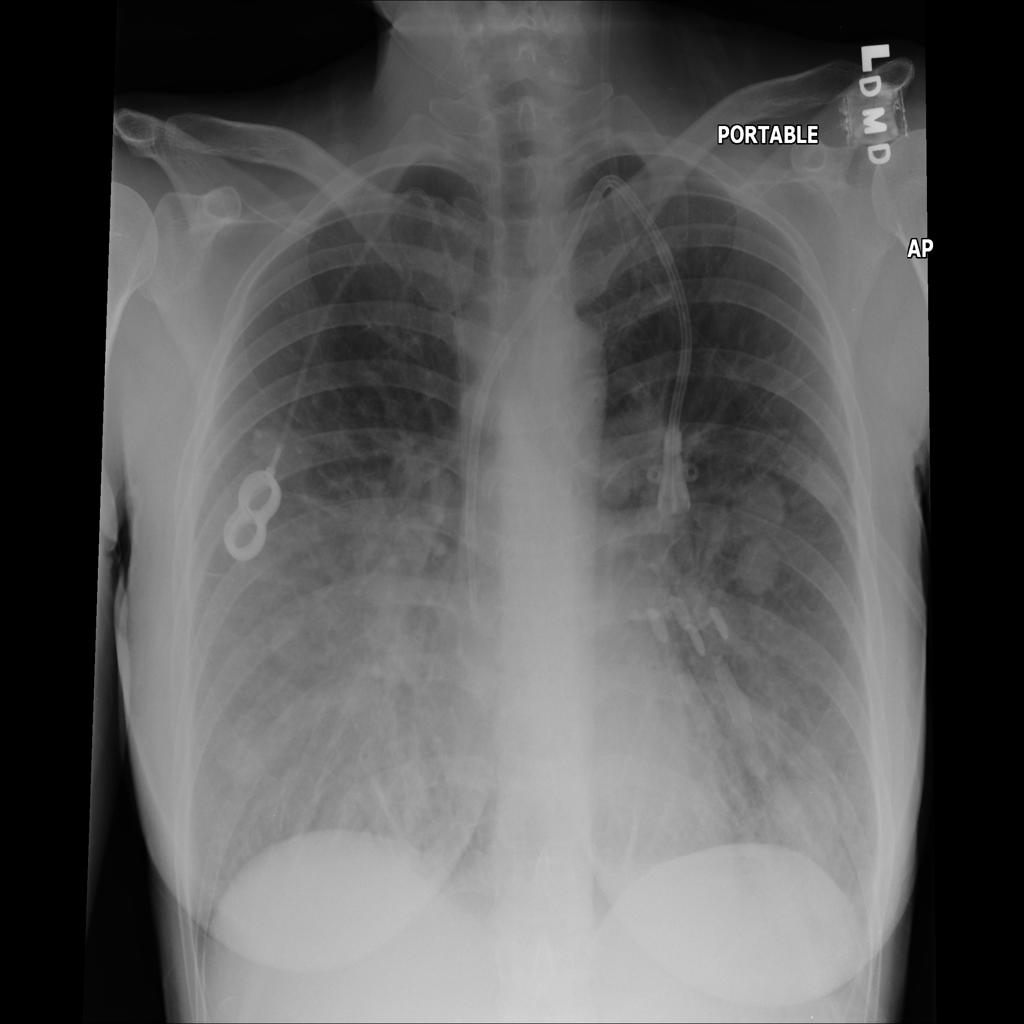nodule: (766, 766, 839, 856), (216, 702, 285, 792), (586, 441, 656, 522), (726, 464, 795, 545), (728, 522, 792, 609), (264, 599, 330, 682), (788, 444, 857, 522), (235, 409, 308, 476)
